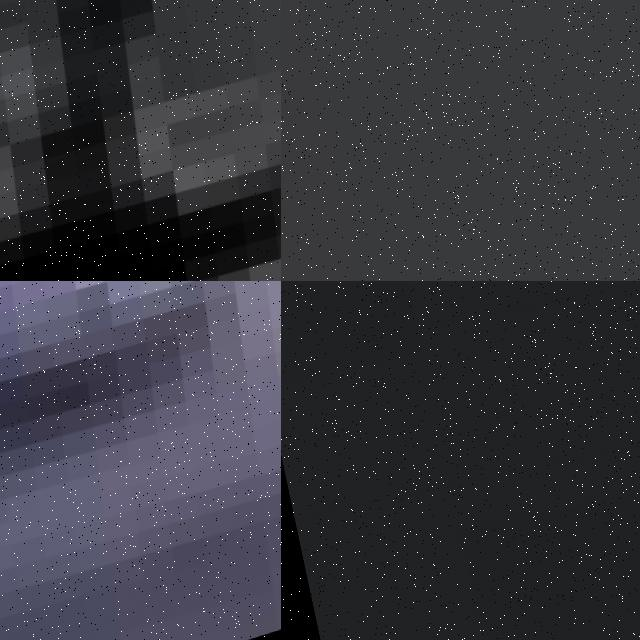drone: (0, 281, 281, 640), (0, 0, 281, 281)
